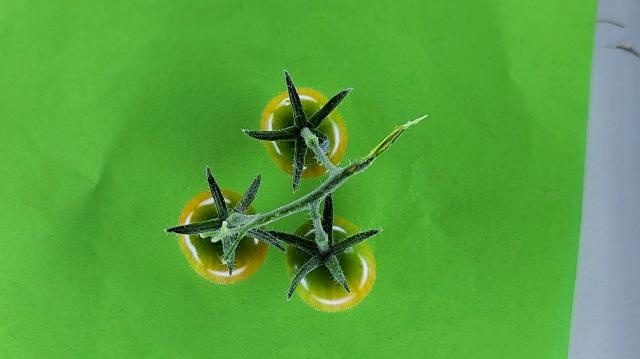Fully Grown: (176, 188, 270, 285), (284, 214, 376, 312), (259, 87, 348, 178)
